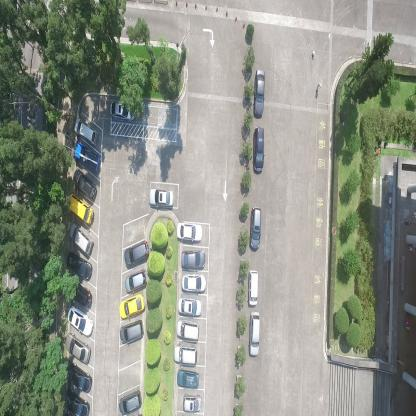car: (63, 332, 91, 366), (67, 221, 94, 256), (71, 168, 98, 203), (66, 193, 94, 226), (64, 251, 93, 281), (65, 362, 93, 393), (66, 304, 93, 336), (73, 142, 100, 172), (119, 292, 146, 321), (67, 279, 93, 309), (118, 318, 145, 344), (64, 388, 90, 415), (125, 238, 149, 267), (73, 116, 97, 145), (118, 387, 142, 415), (253, 67, 265, 119), (248, 309, 261, 357), (108, 100, 136, 122), (180, 247, 206, 270), (175, 220, 202, 242), (249, 203, 261, 252), (149, 186, 174, 209), (176, 319, 200, 342), (176, 297, 202, 318), (180, 272, 207, 292), (125, 268, 147, 292), (254, 124, 264, 175), (173, 345, 197, 366), (176, 368, 200, 388), (247, 266, 258, 306), (183, 392, 202, 412)
